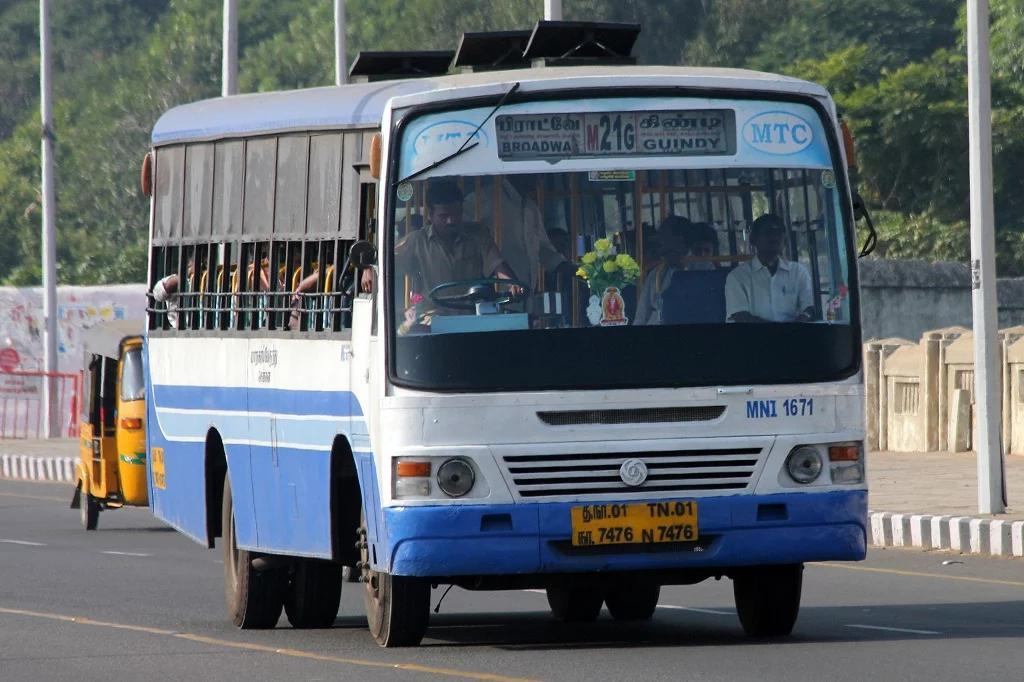Bus: (124, 27, 872, 650)
